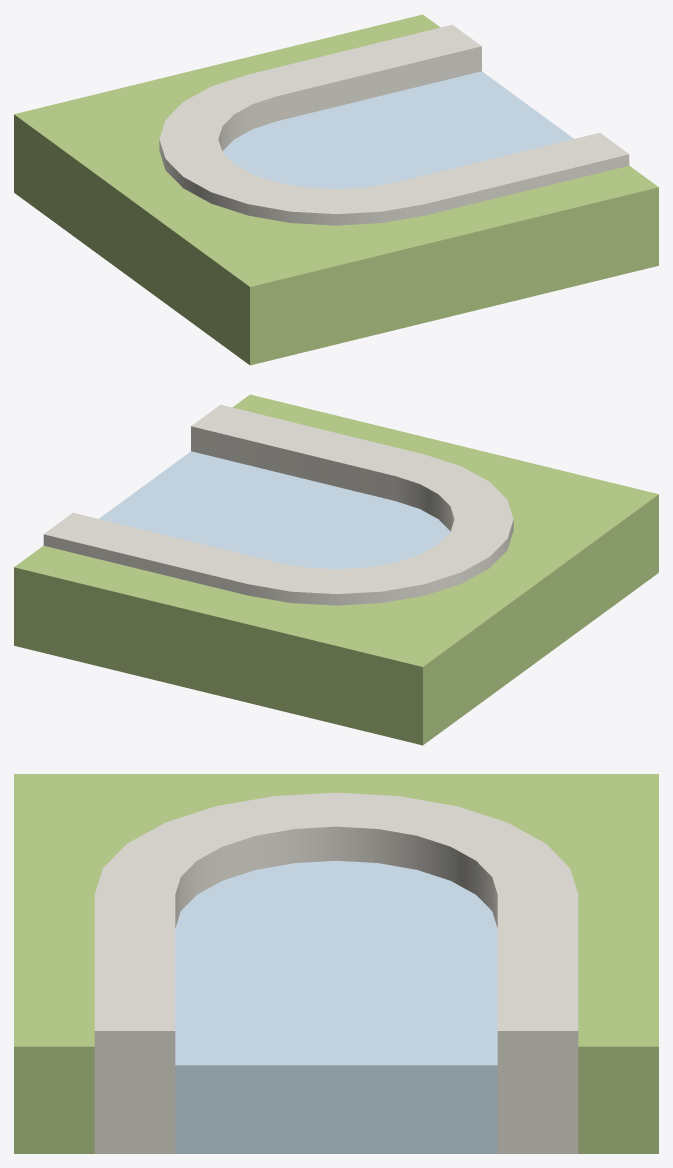
Rendered from road_tile_273.glb.
3 views of the same model, one above another, from view 1: azimuth 30°, elevation 25°; view 2: azimuth 150°, elevation 25°; view 3: azimuth 270°, elevation 25° (orthographic). The views are drawn at different scales.
Visible parts, largest first — view 1: roadTile_273; view 2: roadTile_273; view 3: roadTile_273.
Part boxes in pixels (box(x1,y1,x2,y2)): roadTile_273: box(14, 14, 658, 365); roadTile_273: box(14, 394, 658, 745); roadTile_273: box(14, 774, 658, 1153).
Size of the model in its own units: 3 by 0.63 by 3.
